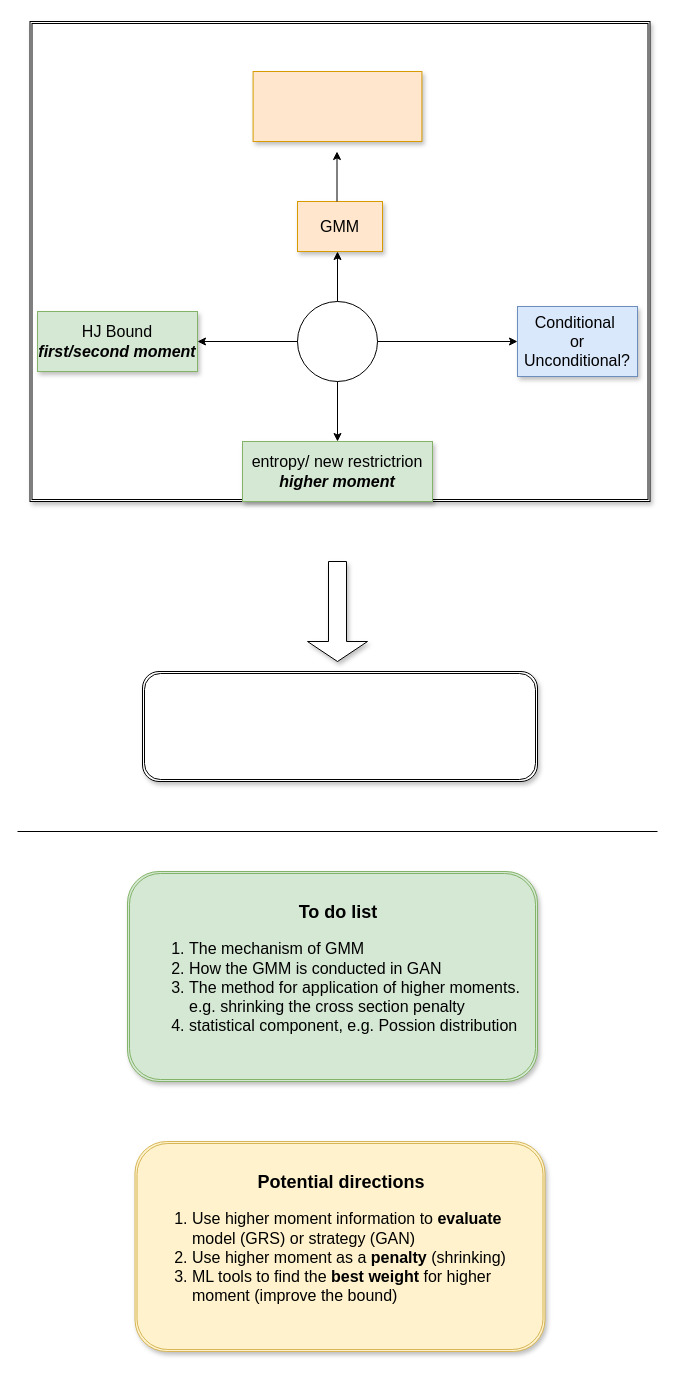
Some shapes in this 676 by 1376 pixel diagram are drawn without their labels. Here are the shapes that lost their labels. From the top down, the centre of each, then its label:
At (x=338, y=107): "GAN [find the most informative moment ]".
At (x=337, y=341): "Moment".
At (x=341, y=727): "apply the higher moment information implied by entropy to machine learning tools".
